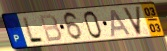0: (83, 10, 104, 39)
6: (63, 11, 85, 43)
A: (110, 9, 133, 38)
B: (38, 14, 63, 43)
L: (21, 16, 45, 43)
V: (122, 5, 143, 37)
